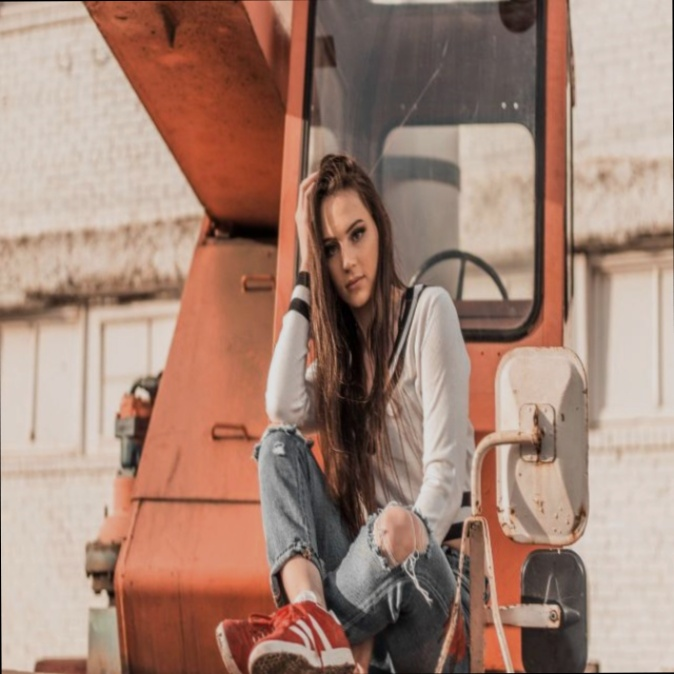ripped_pants: (250, 417, 473, 674)
